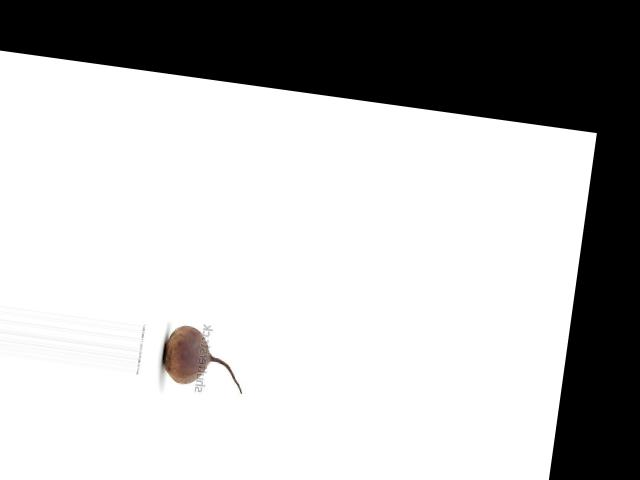beet: (159, 321, 250, 393)
